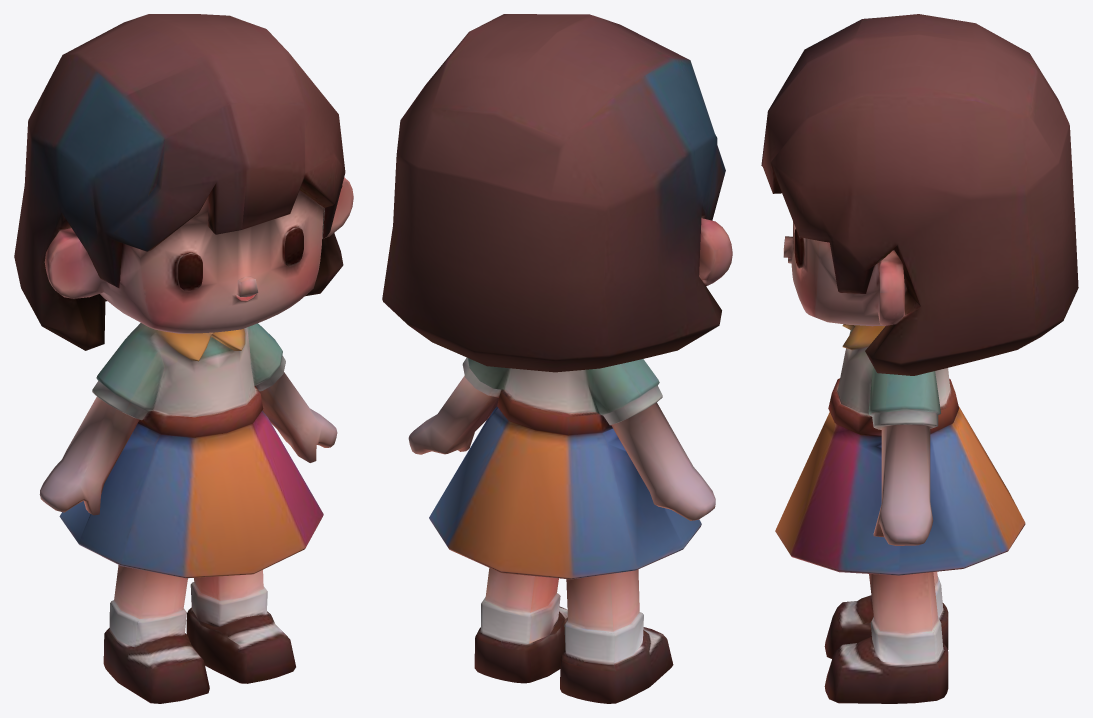
File: girl.glb
The picture shows the model from 3 angles, left to right: view 1: azimuth 30°, elevation 25°; view 2: azimuth 150°, elevation 25°; view 3: azimuth 270°, elevation 25°; orthographic projection. The views are drawn at different scales.
Parts seen in each view (by area): view 1: material; view 2: material; view 3: material.
Part boxes in pixels (x1,y1,x2,y2): material: [14, 14, 353, 703]; material: [382, 14, 732, 703]; material: [761, 14, 1078, 703].
Size of the model in its own units: 0.9627 by 1.9 by 0.8612.
1 material, 1 textured.
